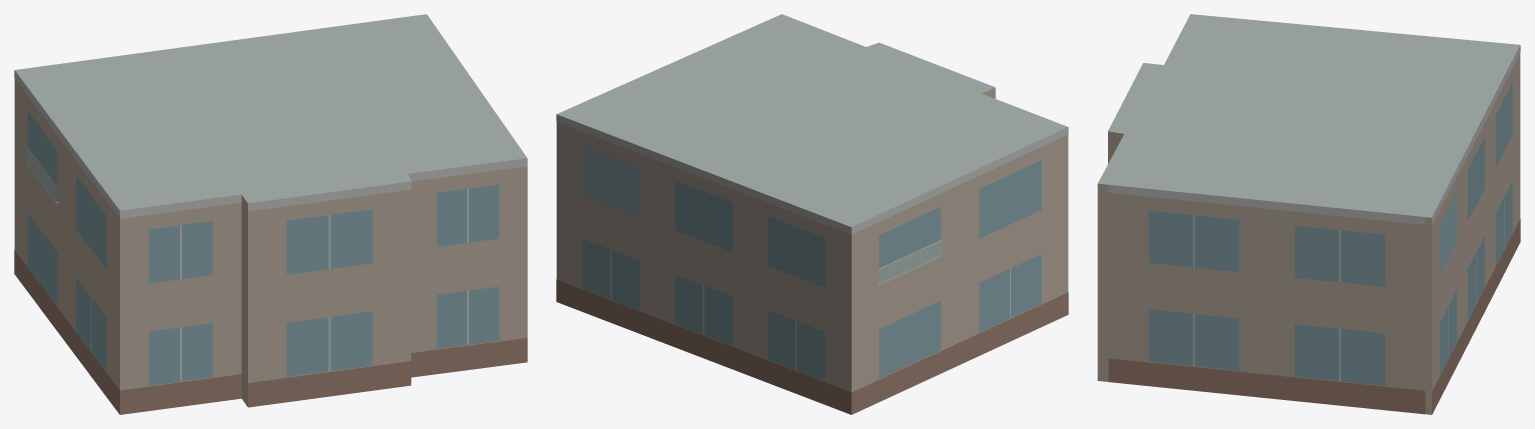
The model's file is survey-upis-32665781.glb.
The picture shows the model from 3 angles, left to right: view 1: azimuth 30°, elevation 25°; view 2: azimuth 150°, elevation 25°; view 3: azimuth 270°, elevation 25°; orthographic projection. The views are drawn at different scales.
Parts seen in each view (by area): view 1: survey-upis-32665781.tmp; view 2: survey-upis-32665781.tmp; view 3: survey-upis-32665781.tmp.
Part boxes in pixels (<box>): survey-upis-32665781.tmp: <box>14,14,527,414</box>; survey-upis-32665781.tmp: <box>556,14,1068,414</box>; survey-upis-32665781.tmp: <box>1097,14,1520,414</box>.
Size of the model in its own units: 13.52 by 6.1 by 11.86.
